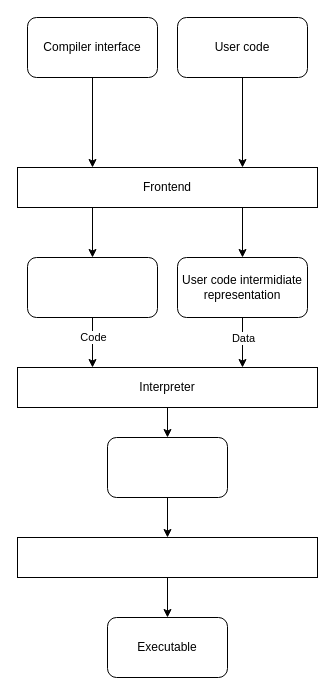
This 335x695 diagram has some shape labels left out. Each missing label, with the box of its shape:
Backend: (16, 536, 318, 578)
Compiler interface intermidiate representation: (26, 256, 158, 318)
LLVMIR: (106, 436, 228, 498)
